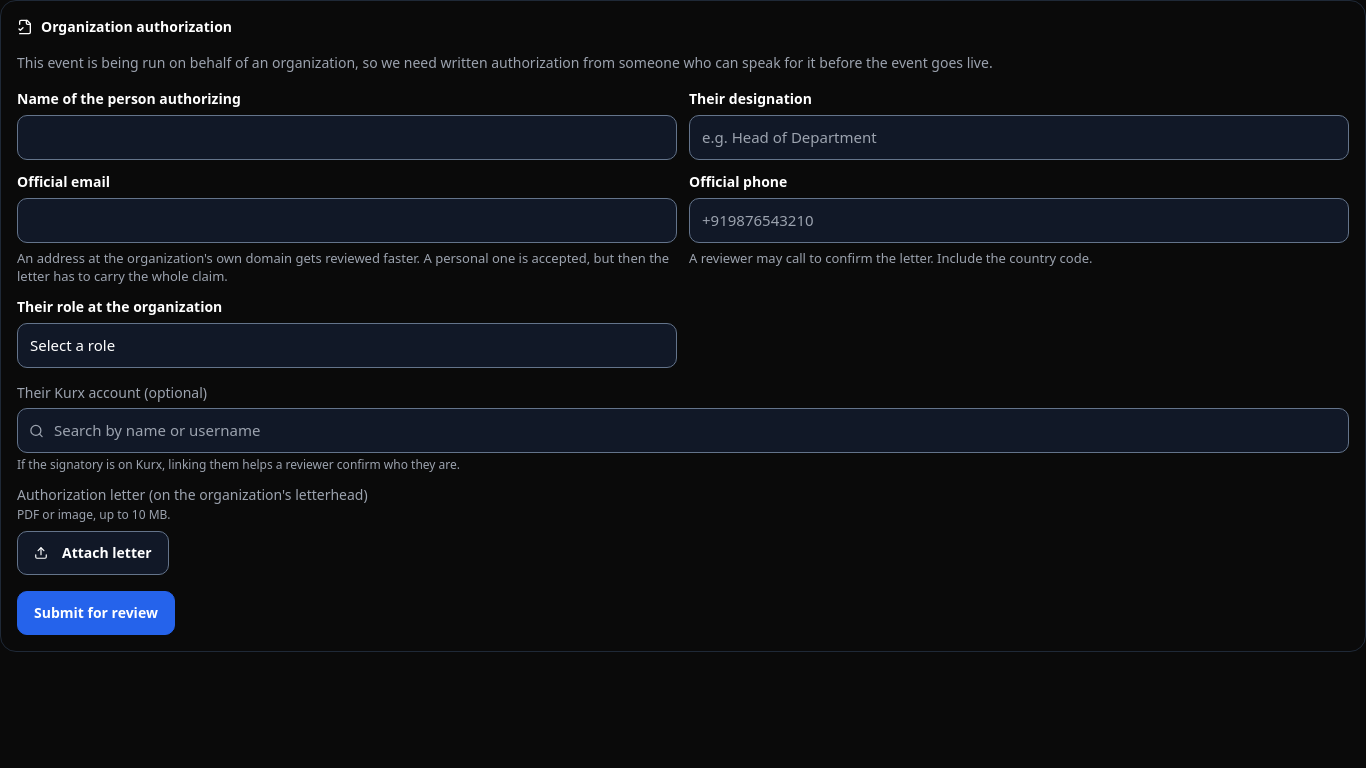
it: the letter on file must be the letter that was uploaded › refuses to submit without a letter
Click the button "Submit for review": (96, 613) [17,591,175,635]
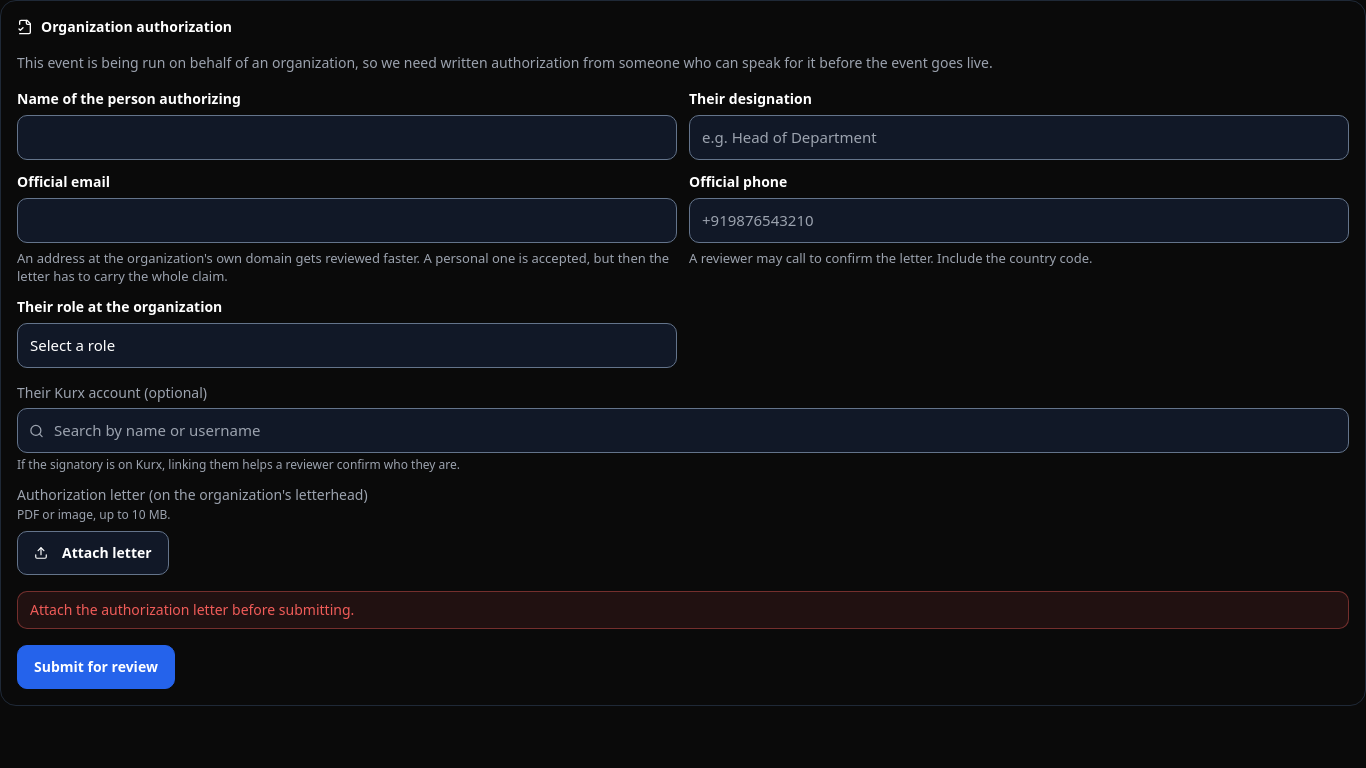
Now the message shows "Attach the authorization letter", box [30,600,354,619]
